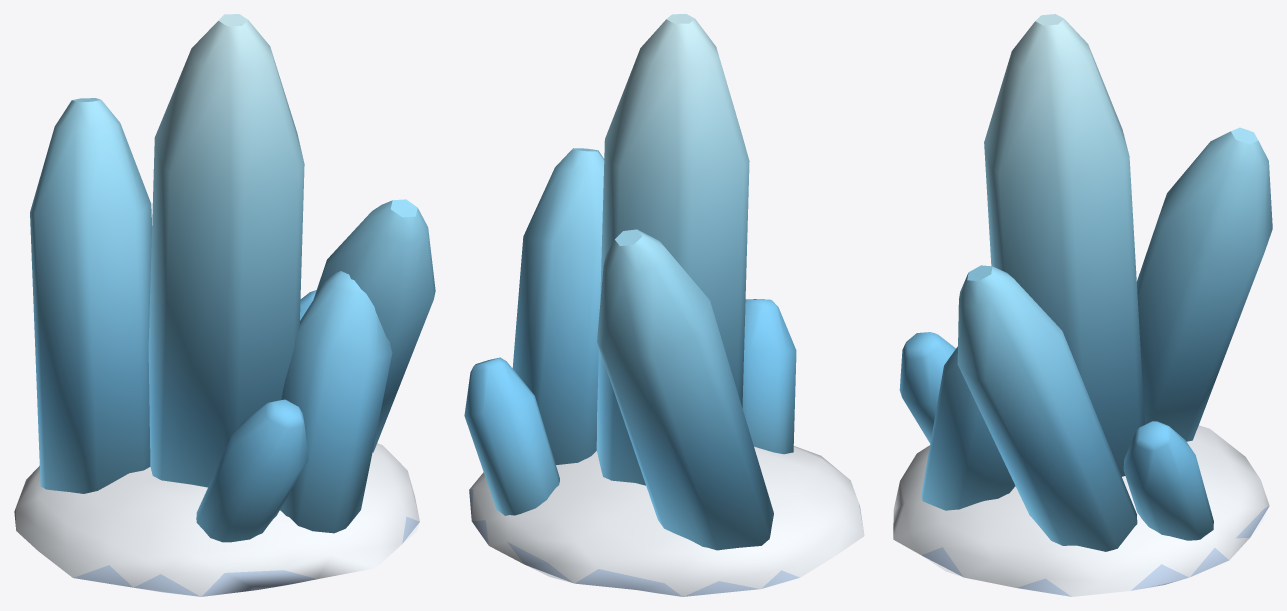
Rendered from IceShardCluster.fbx.
3 views of the same model, side by side, from view 1: azimuth 30°, elevation 25°; view 2: azimuth 150°, elevation 25°; view 3: azimuth 270°, elevation 25° (orthographic). The views are drawn at different scales.
Visible parts, largest first — view 1: IceShardCluster; view 2: IceShardCluster; view 3: IceShardCluster.
Part boxes in pixels (x1,y1,x2,y2): IceShardCluster: [14, 14, 435, 596]; IceShardCluster: [464, 14, 864, 596]; IceShardCluster: [893, 14, 1272, 596].
Bounding box in the file's own units: 1.51 × 2.02 × 1.41.
Materials: 1 (1 with a texture image).
